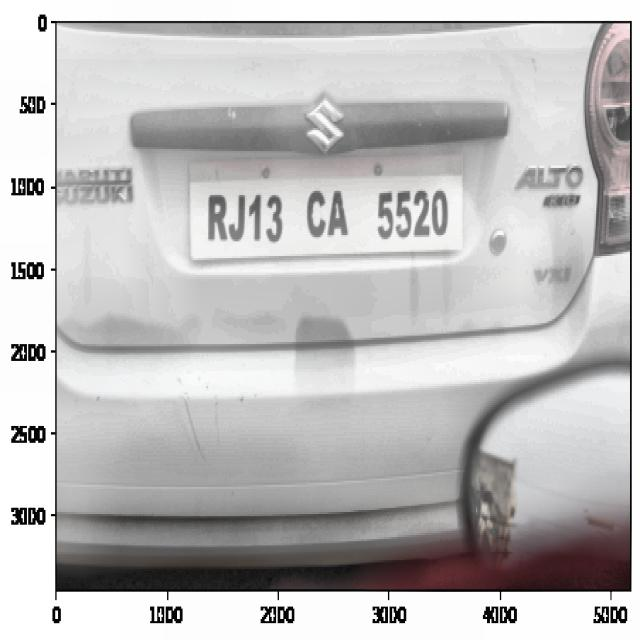license_plate: (200, 182, 454, 251)
